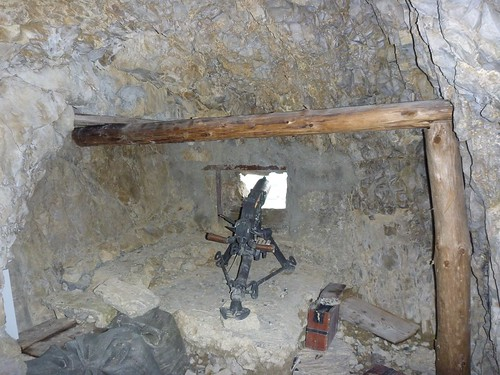weapon: (201, 172, 294, 324)
